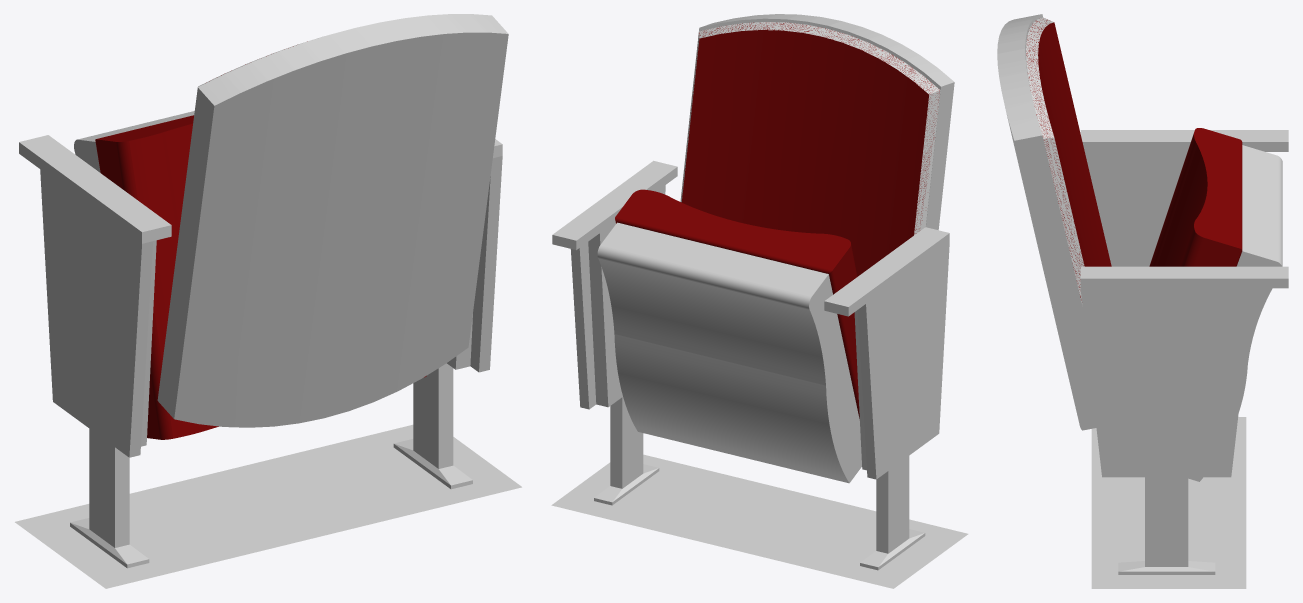
3 views of the same model, side by side, from view 1: azimuth 30°, elevation 25°; view 2: azimuth 150°, elevation 25°; view 3: azimuth 270°, elevation 25° (orthographic). The views are drawn at different scales.
Visible parts, largest first — view 1: Back, Arm (×2), SketchUp, Seat (×2); view 2: Seat (×2), Back (×2), Arm (×2), SketchUp; view 3: Arm (×2), Back (×2), Seat (×2), SketchUp.
Boxes of the visible parts, x1=… form: Back: x1=157, y1=14, x2=508, y2=427; Arm (×2): x1=19, y1=135, x2=502, y2=568; SketchUp: x1=15, y1=424, x2=521, y2=588; Seat (×2): x1=74, y1=111, x2=426, y2=439; Seat (×2): x1=597, y1=189, x2=861, y2=483; Back (×2): x1=680, y1=14, x2=954, y2=276; Arm (×2): x1=552, y1=160, x2=949, y2=570; SketchUp: x1=551, y1=454, x2=968, y2=588; Arm (×2): x1=1080, y1=130, x2=1288, y2=574; Back (×2): x1=997, y1=14, x2=1111, y2=430; Seat (×2): x1=1149, y1=128, x2=1282, y2=481; SketchUp: x1=1091, y1=417, x2=1246, y2=588.
Bounding box in the file's own units: 28.32 × 20.3 × 34.96.
